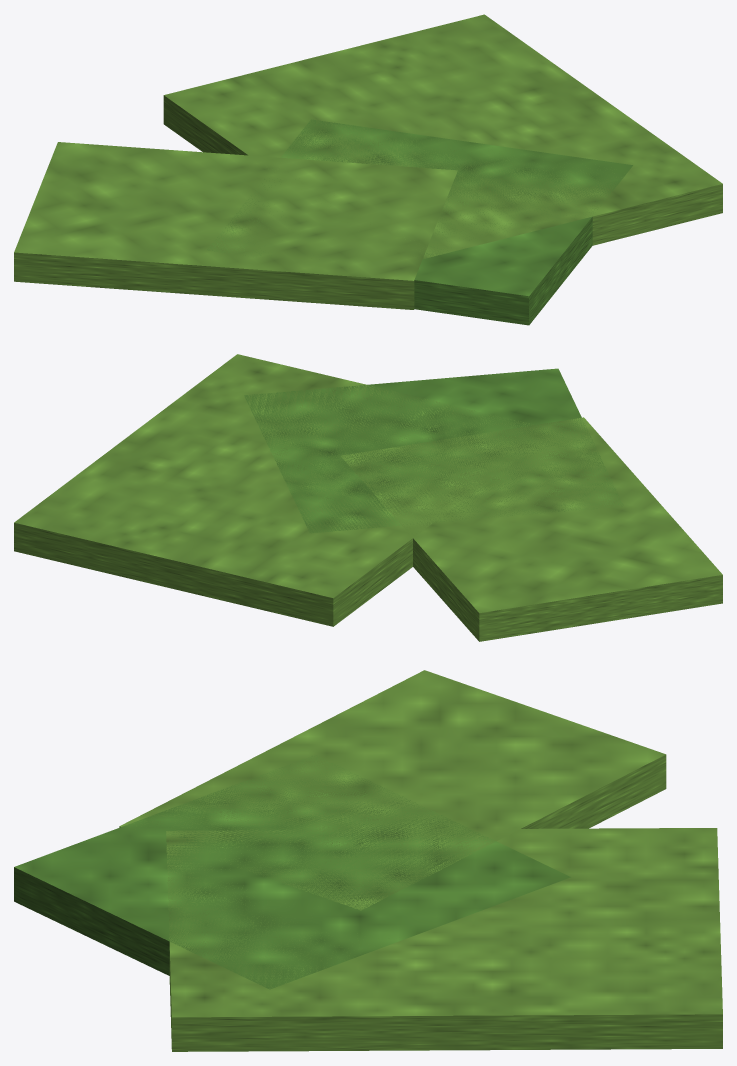
The model's file is Deco_Mousse_C.obj.
3 views of the same model, one above another, from view 1: azimuth 30°, elevation 25°; view 2: azimuth 150°, elevation 25°; view 3: azimuth 270°, elevation 25° (orthographic). The views are drawn at different scales.
Parts seen in each view (by area): view 1: Deco_Mousse_C; view 2: Deco_Mousse_C; view 3: Deco_Mousse_C.
Boxes of the visible parts, bbox=[...] form: Deco_Mousse_C: bbox=[14, 14, 722, 325]; Deco_Mousse_C: bbox=[14, 354, 722, 641]; Deco_Mousse_C: bbox=[14, 670, 722, 1051].
Bounding box in the file's own units: 1.73 × 0.08 × 1.49.
1 material, 1 textured.
